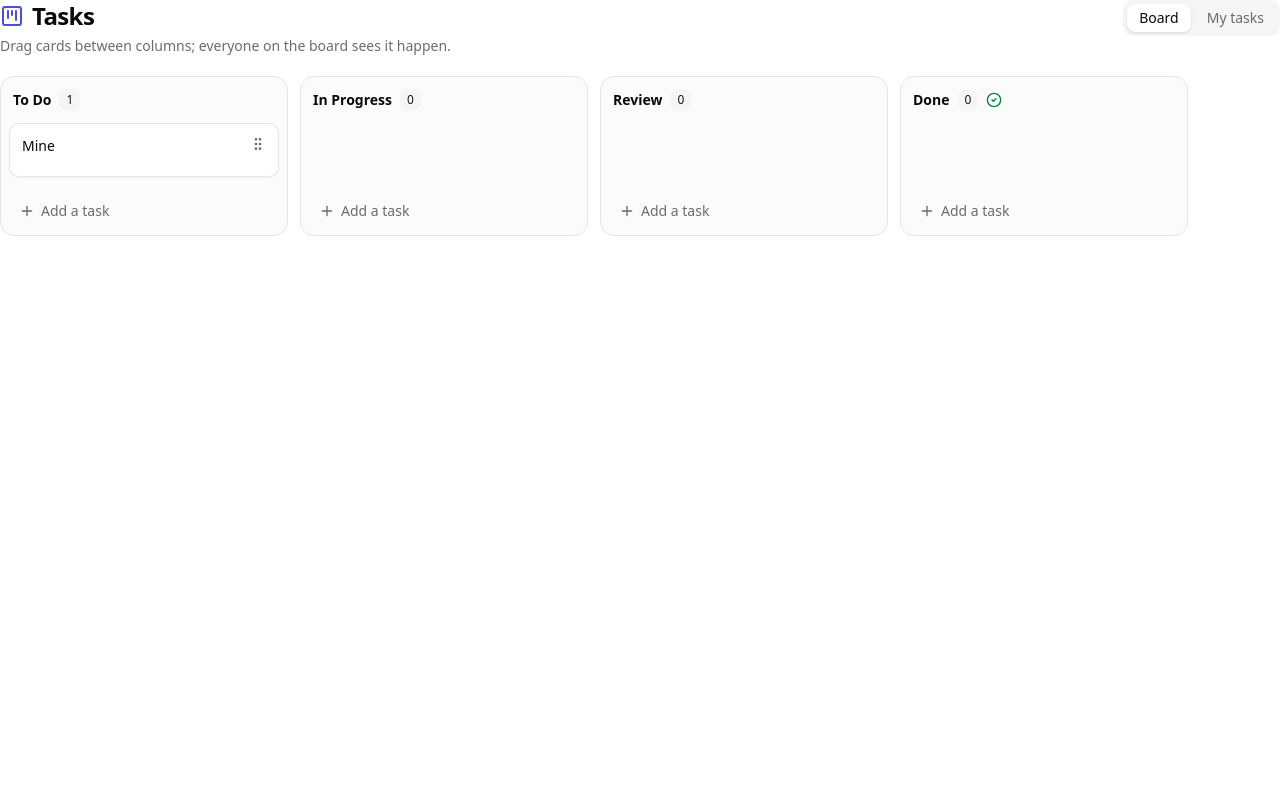
Scenario: <TasksPage /> board › lets the creator delete their own task after confirming
Step 1. Click the button "Mine" → (132, 146), box [22,136,242,155]
(page scrolled)
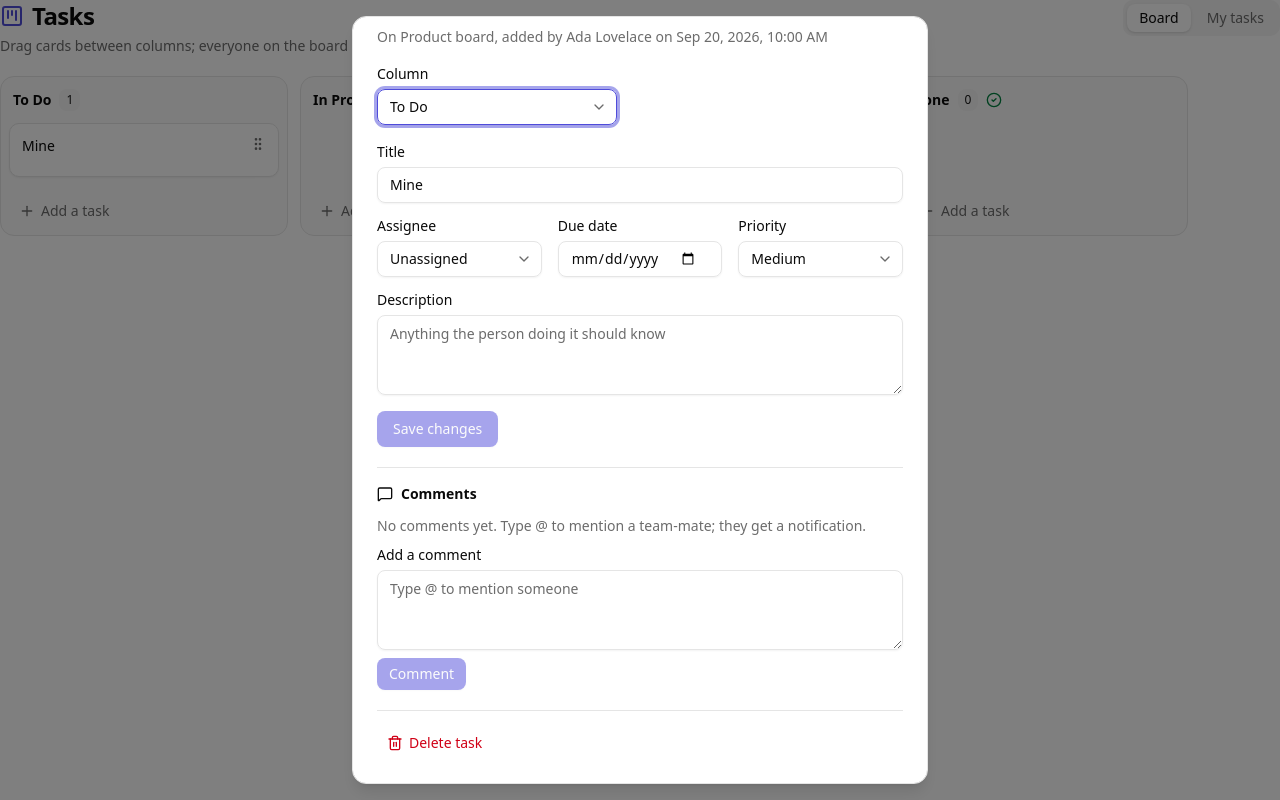
Step 2. Click the button "Delete task" → (435, 743), box [377,727,492,759]
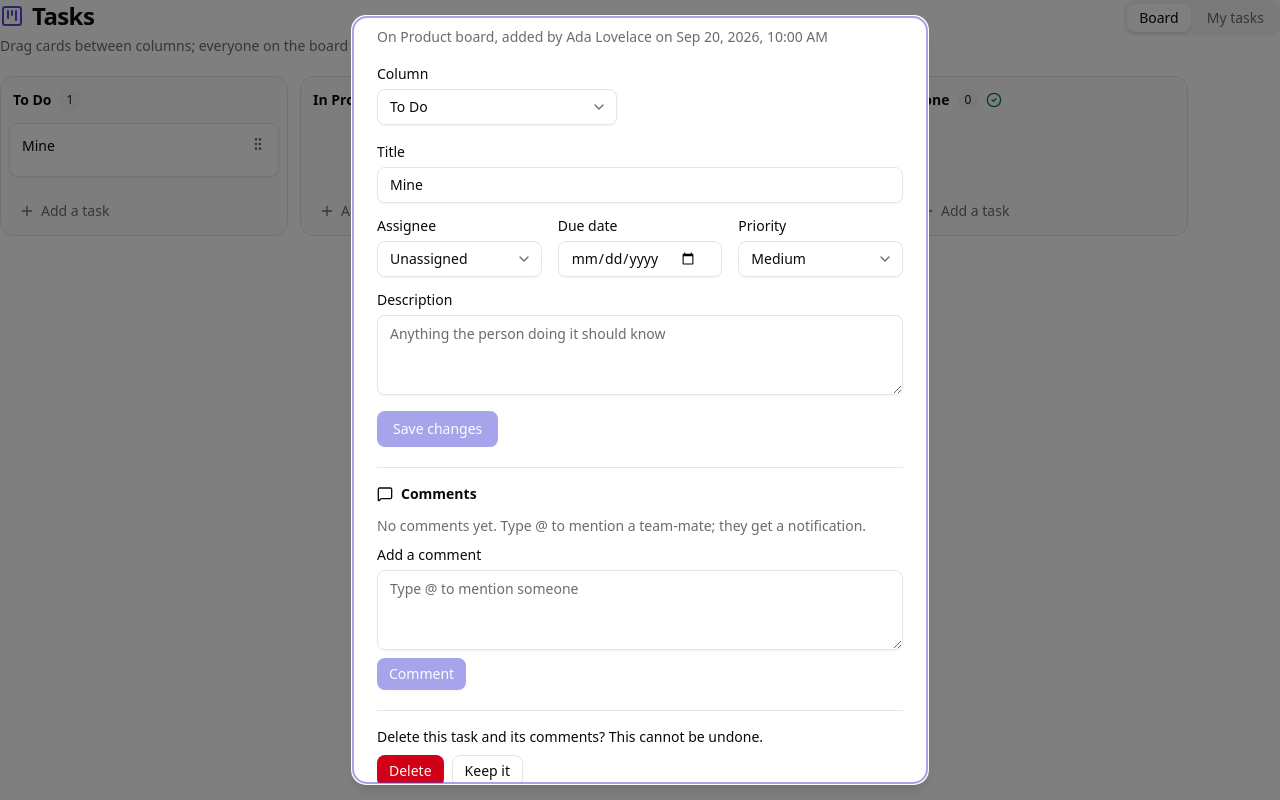
Step 3. Click the button "Delete" → (410, 771), box [377,755,444,787]
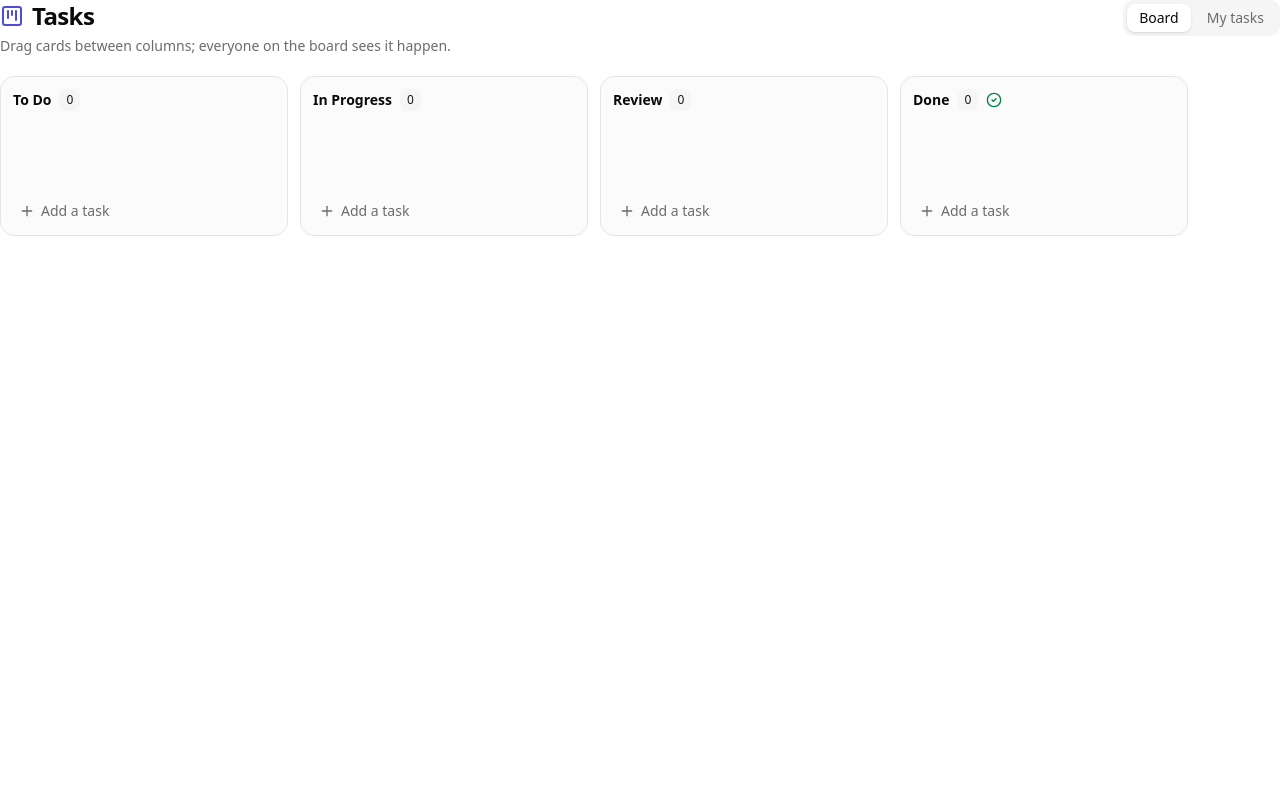
Check: the dialog is gone
Check: the button "Mine" is gone
